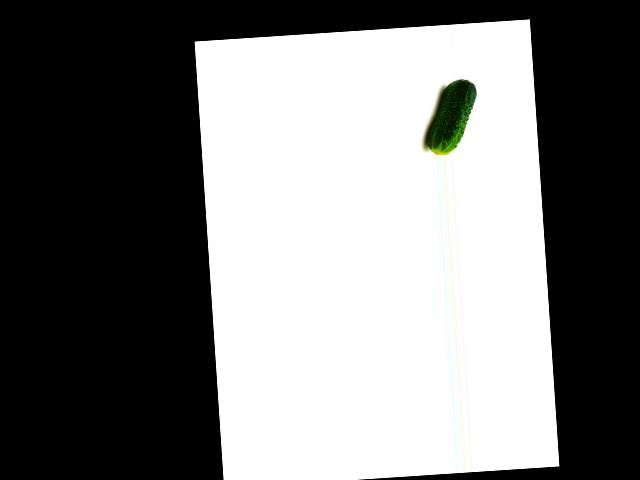cucumber: (423, 78, 480, 156)
